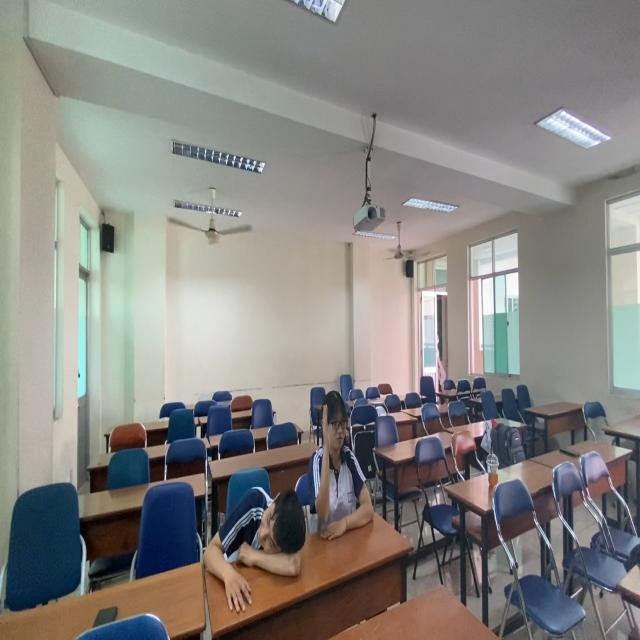raise_hand: (308, 386, 379, 547)
sleep: (203, 483, 309, 598)
